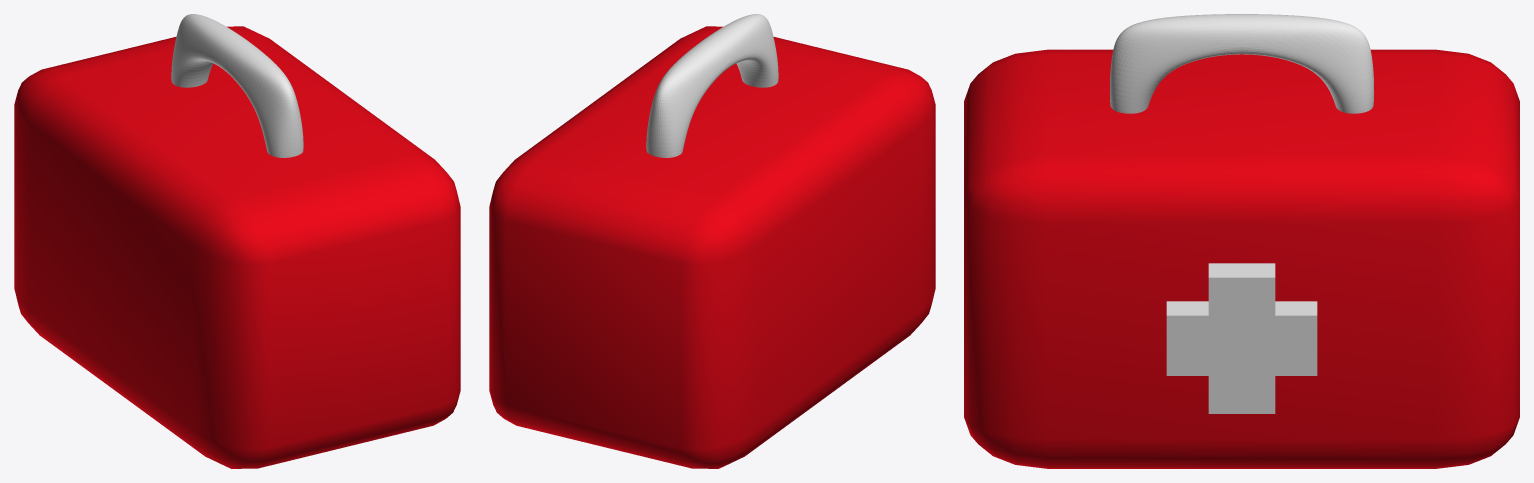
File: health kit.fbx
3 renders of one model, left to right at view 1: azimuth 30°, elevation 25°; view 2: azimuth 150°, elevation 25°; view 3: azimuth 270°, elevation 25°, orthographic. The views are drawn at different scales.
Visible parts, largest first — view 1: Cube; view 2: Cube; view 3: Cube.
Part boxes in pixels (box(x1,y1,x2,y2)): Cube: box(14, 14, 460, 468); Cube: box(489, 14, 935, 468); Cube: box(964, 14, 1519, 468).
Size of the model in its own units: 220 by 257 by 326.
